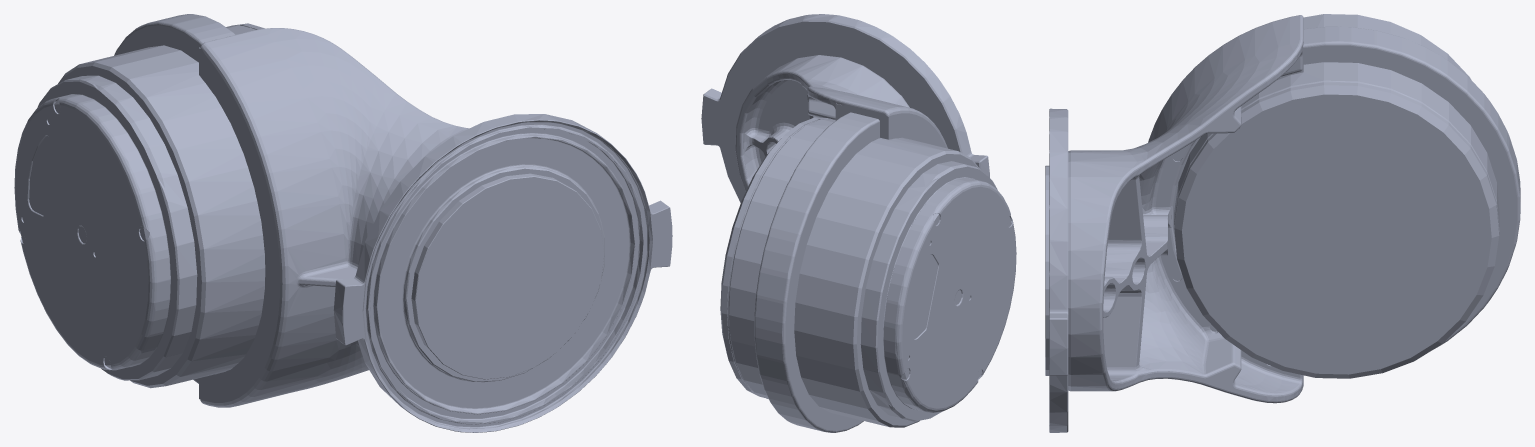
File: right_hip_yaw_link.obj
3 renders of one model, left to right at view 1: azimuth 30°, elevation 25°; view 2: azimuth 150°, elevation 25°; view 3: azimuth 270°, elevation 25°, orthographic. The views are drawn at different scales.
Visible parts, largest first — view 1: right_hip_yaw_link-mesh; view 2: right_hip_yaw_link-mesh; view 3: right_hip_yaw_link-mesh.
Boxes of the visible parts, x1,y1,x2,y2 form: right_hip_yaw_link-mesh: (14,14,672,432); right_hip_yaw_link-mesh: (701,14,1016,432); right_hip_yaw_link-mesh: (1045,14,1520,432).
Size of the model in its own units: 0.1634 by 0.1277 by 0.1577.
